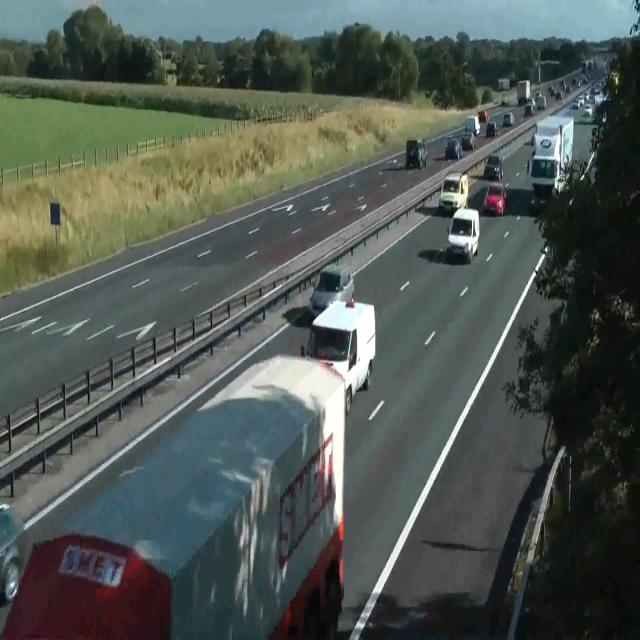bus: (478, 109, 488, 123), (584, 103, 592, 116), (500, 96, 508, 106)
car: (1, 351, 347, 638), (1, 532, 172, 638)
jeep: (306, 295, 376, 413), (308, 262, 354, 318), (446, 207, 479, 262), (438, 172, 468, 214), (527, 153, 557, 194), (482, 181, 507, 216), (405, 138, 427, 169), (483, 153, 503, 180), (444, 138, 462, 160), (464, 115, 480, 136), (460, 130, 476, 149), (532, 91, 546, 109), (486, 120, 498, 137), (502, 111, 514, 126)
minibus: (527, 114, 574, 195), (516, 79, 530, 105), (498, 77, 510, 91)
